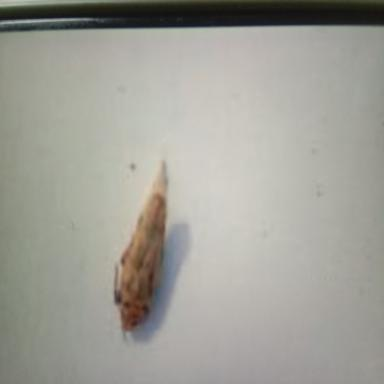pbw: (112, 158, 168, 336)
